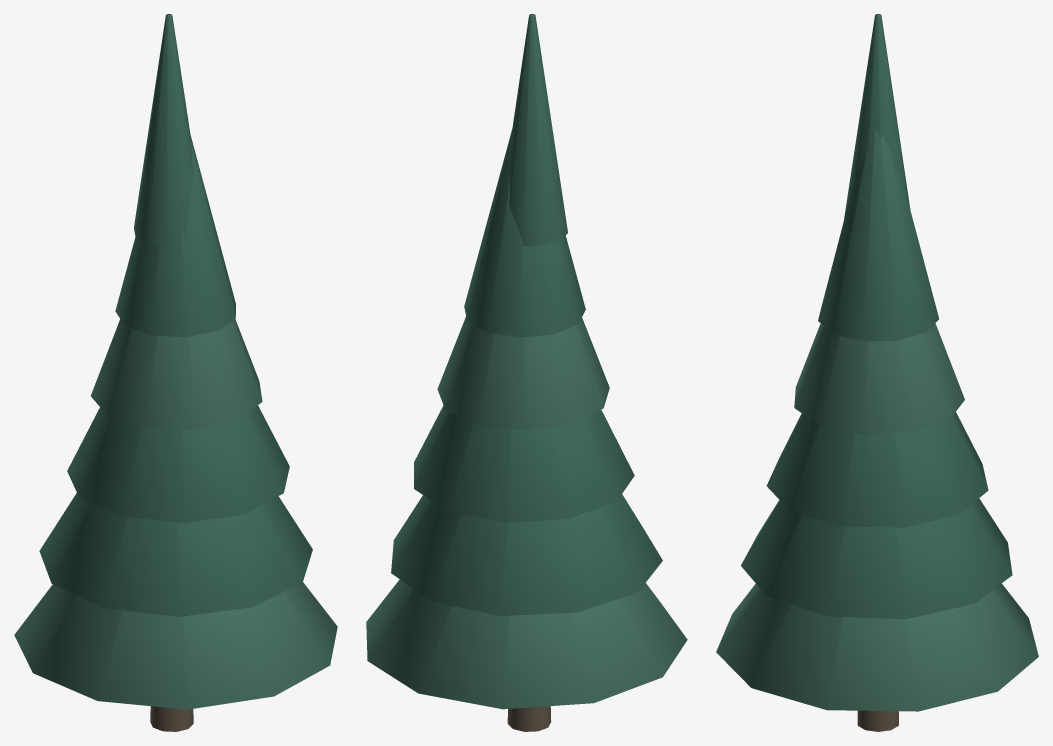
Rendered from pine_tree_variant_03.glb.
3 views of the same model, side by side, from view 1: azimuth 30°, elevation 25°; view 2: azimuth 150°, elevation 25°; view 3: azimuth 270°, elevation 25° (orthographic).
Visible parts, largest first — view 1: static_leaf_pine, static_leaf_pine_light, trunk; view 2: static_leaf_pine, static_leaf_pine_light, trunk; view 3: static_leaf_pine, static_leaf_pine_light, trunk.
Part boxes in pixels (<box>): static_leaf_pine: <box>39,14,312,616</box>; static_leaf_pine_light: <box>14,319,337,709</box>; trunk: <box>150,706,193,731</box>; static_leaf_pine: <box>391,14,662,615</box>; static_leaf_pine_light: <box>366,316,687,709</box>; trunk: <box>507,706,551,731</box>; static_leaf_pine: <box>741,14,1012,619</box>; static_leaf_pine_light: <box>716,323,1038,711</box>; trunk: <box>857,710,898,731</box>.
Size of the model in its own units: 2.94 by 7.14 by 2.96.
